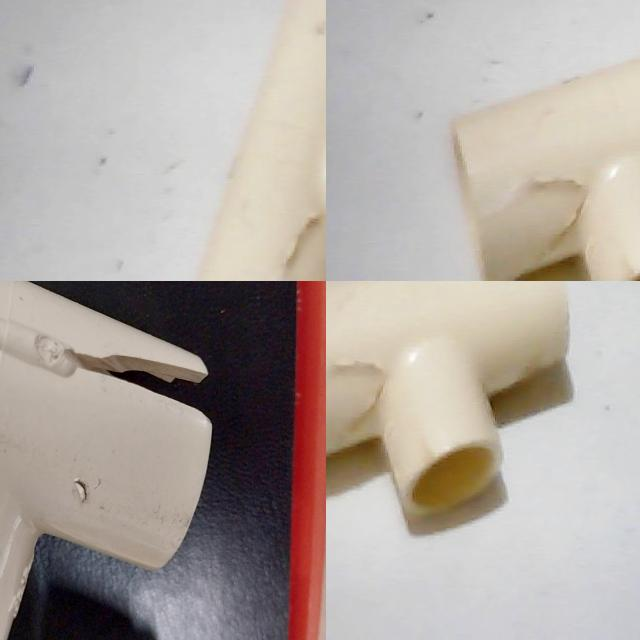Defective: (476, 166, 592, 259), (326, 344, 391, 452), (270, 197, 326, 281)
T Joint: (326, 281, 569, 507), (451, 57, 640, 281)
